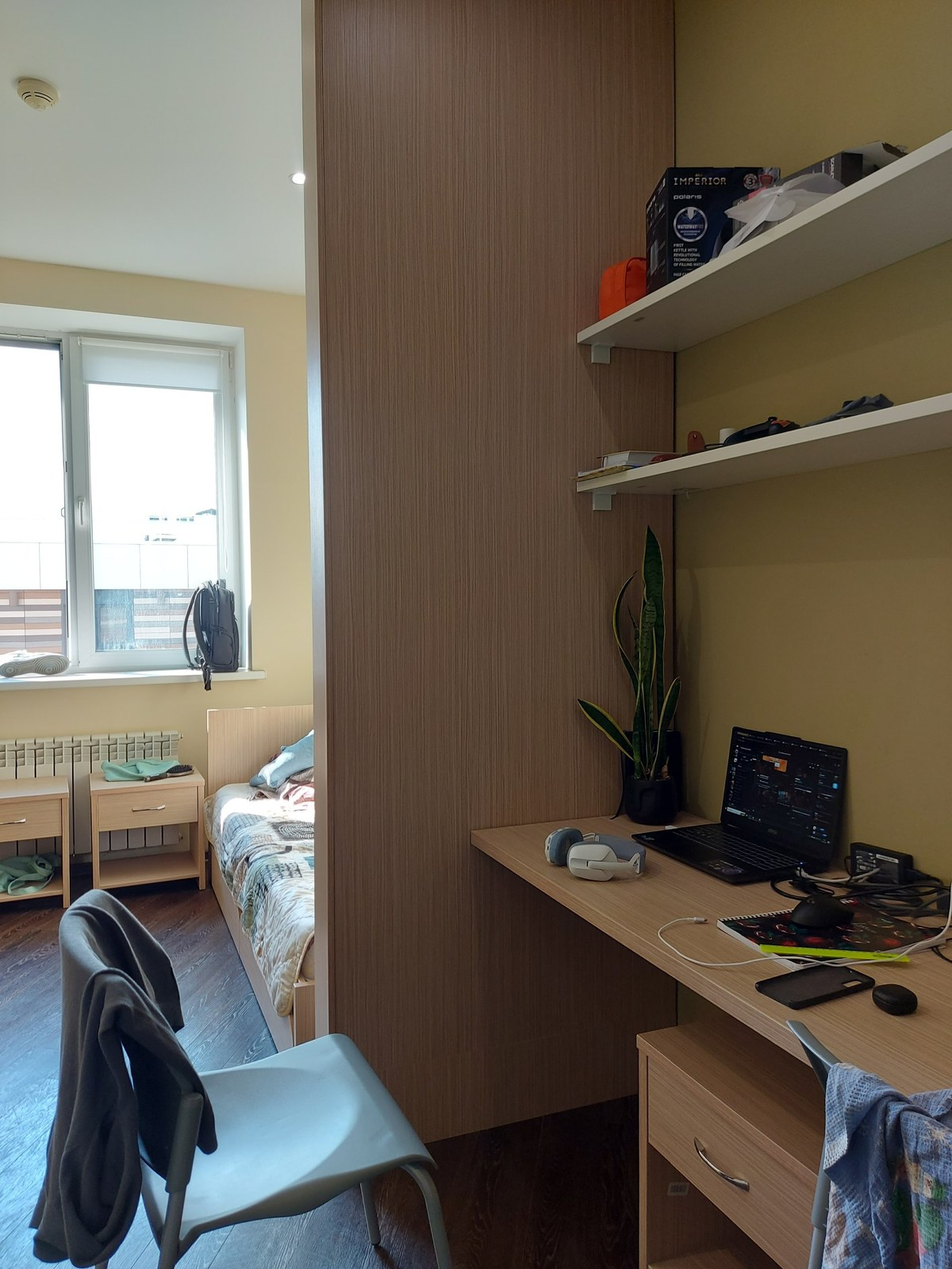laptop: (632, 725, 848, 885)
